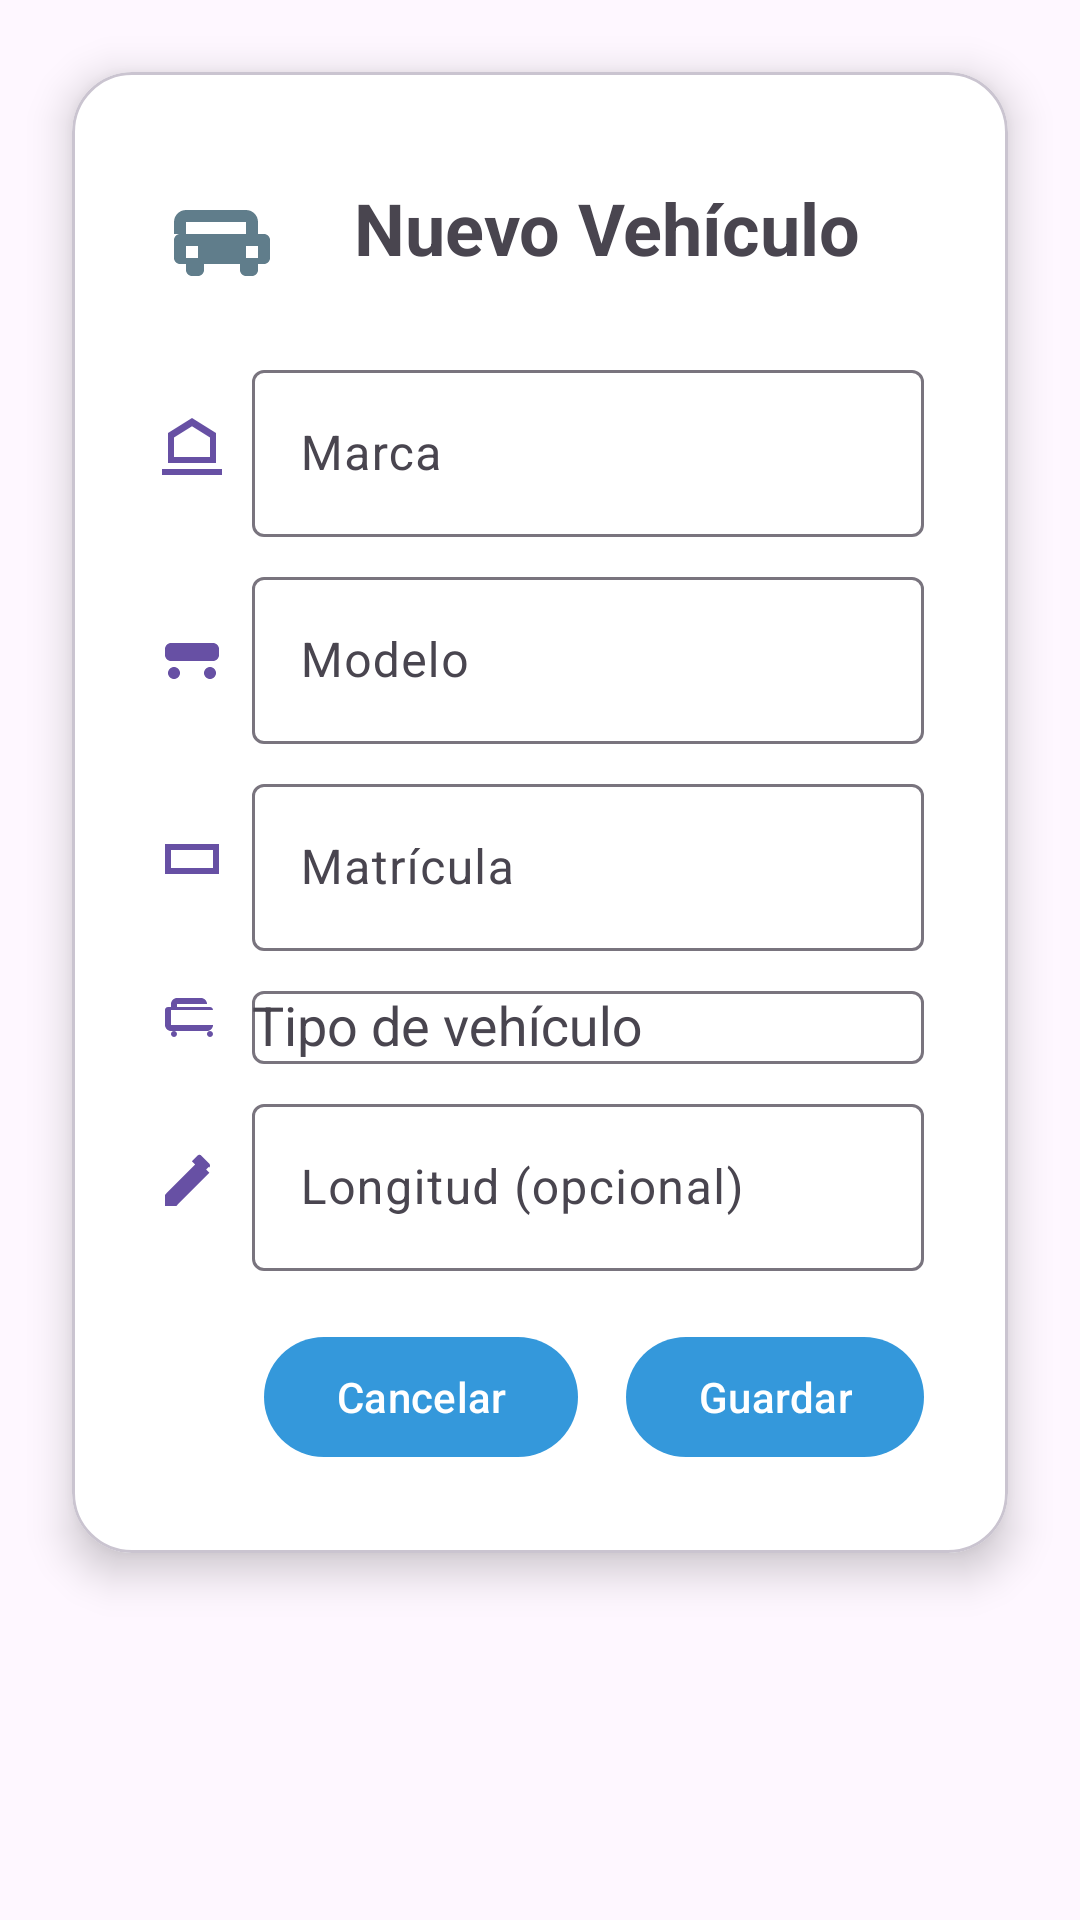

Icons on this 1080 × 1920 Android screen, each with the point to tap as (x=x, y=y):
license plate: (x=192, y=859)
